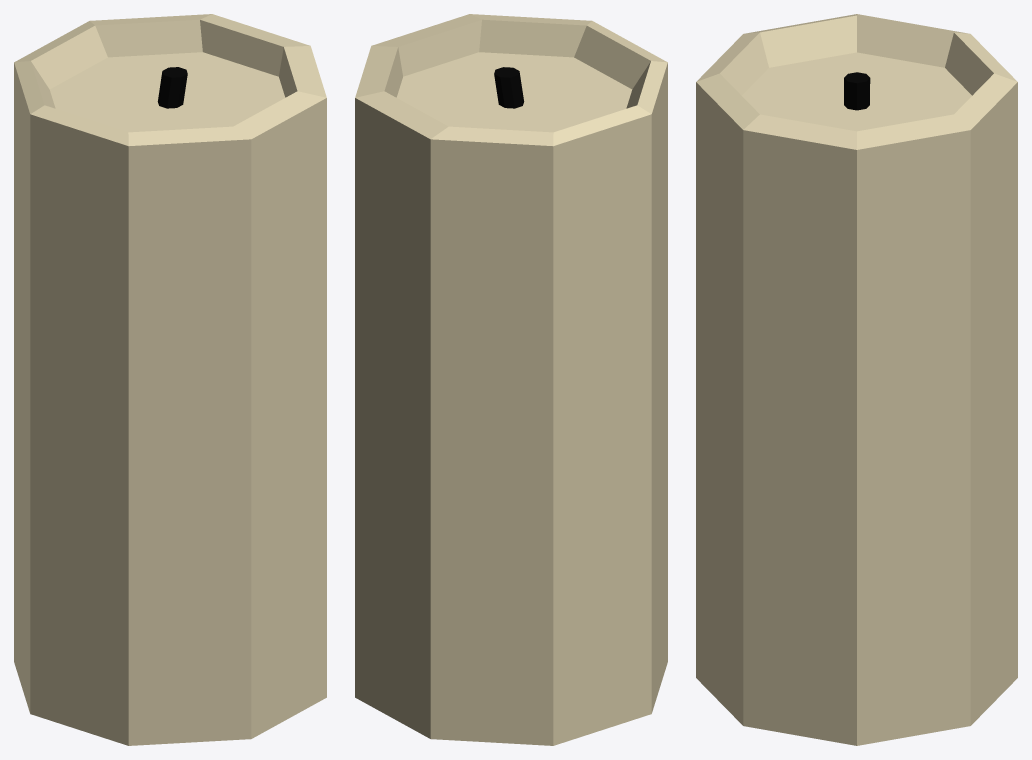
Rendered from Candle.fbx.
3 renders of one model, left to right at view 1: azimuth 30°, elevation 25°; view 2: azimuth 150°, elevation 25°; view 3: azimuth 270°, elevation 25°, orthographic.
Parts seen in each view (by area): view 1: Circle.001; view 2: Circle.001; view 3: Circle.001.
Boxes of the visible parts, bbox=[...] form: Circle.001: bbox=[14, 14, 326, 745]; Circle.001: bbox=[355, 14, 667, 745]; Circle.001: bbox=[696, 14, 1017, 745].
Size of the model in its own units: 207 by 429 by 207.
